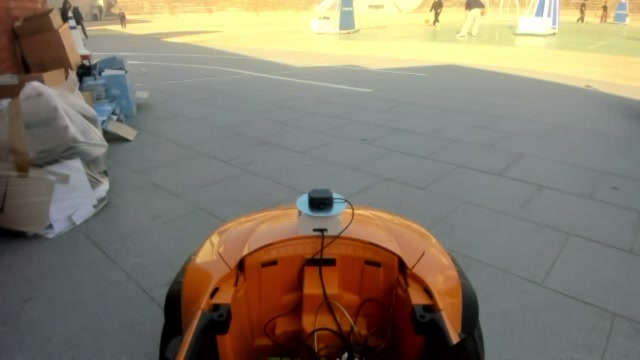Lane: (128, 59, 373, 93)
